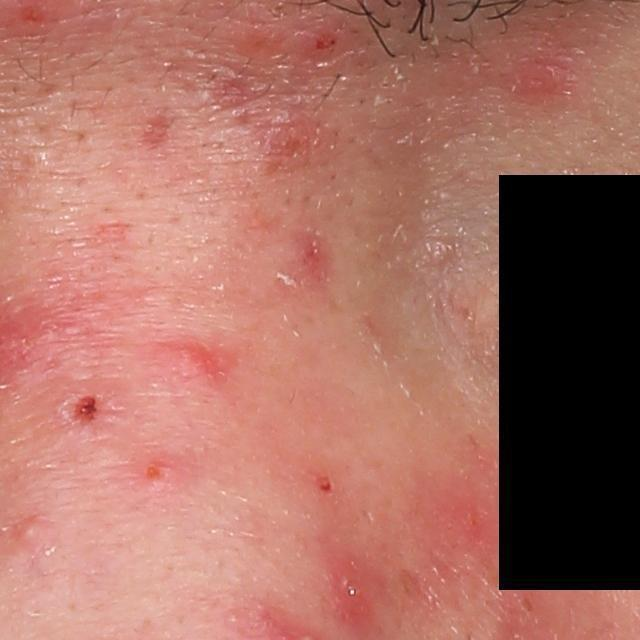comedo: (13, 515, 47, 550)
papule: (329, 550, 375, 624), (252, 116, 308, 168), (56, 388, 119, 431), (513, 57, 565, 103), (287, 229, 333, 281), (300, 23, 349, 64), (172, 340, 212, 379), (137, 456, 178, 488)
